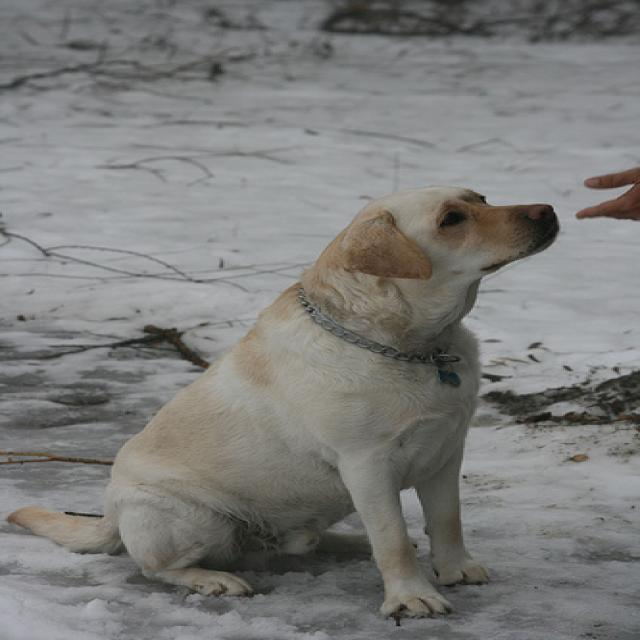dog-german_shorthaired: (6, 183, 573, 627)
